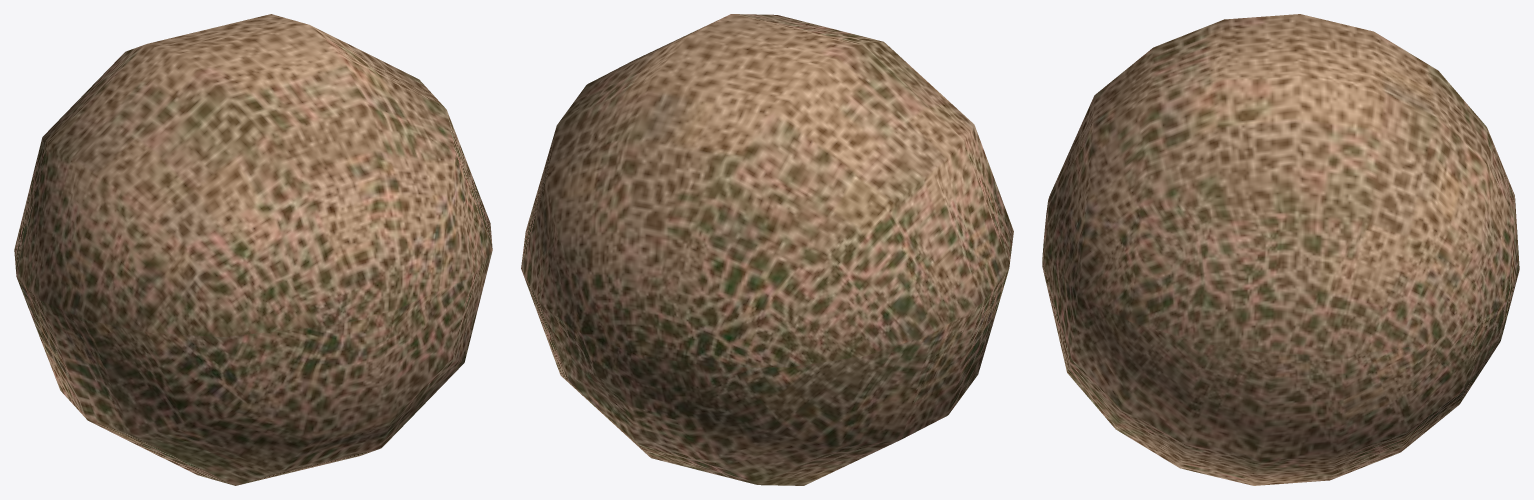
File: melon.glb
3 renders of one model, left to right at view 1: azimuth 30°, elevation 25°; view 2: azimuth 150°, elevation 25°; view 3: azimuth 270°, elevation 25°, orthographic.
Visible parts, largest first — view 1: melon; view 2: melon; view 3: melon.
Part boxes in pixels (x1,y1,x2,y2): melon: (14, 14, 492, 485); melon: (521, 14, 1013, 485); melon: (1042, 14, 1519, 485).
Size of the model in its own units: 0.2287 by 0.2086 by 0.2204.
1 material, 1 textured.
